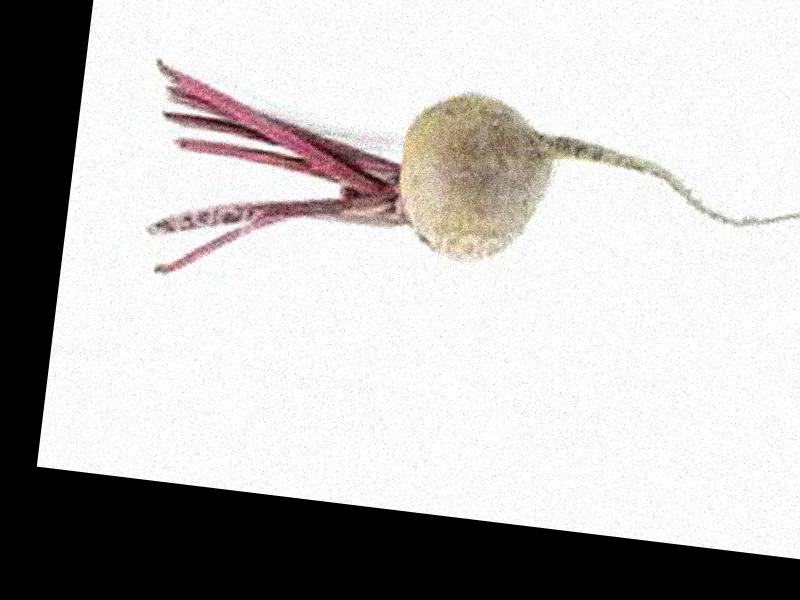Beet: (134, 58, 800, 349)
